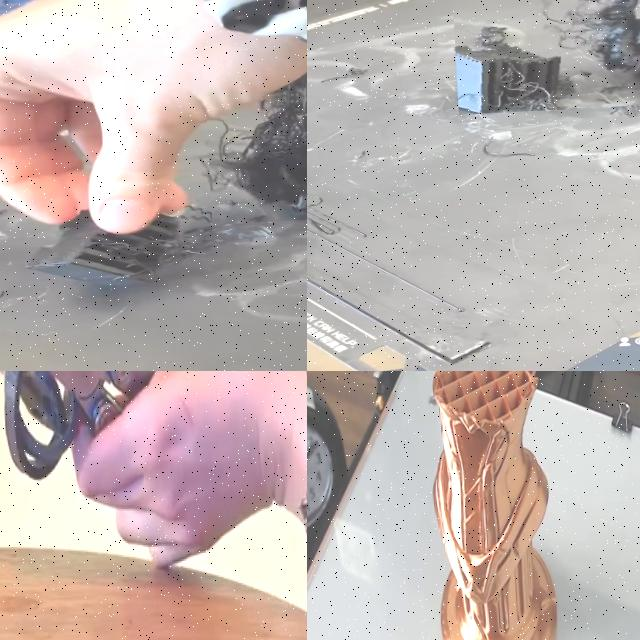spaghetti: (446, 0, 640, 114), (206, 85, 307, 225)
